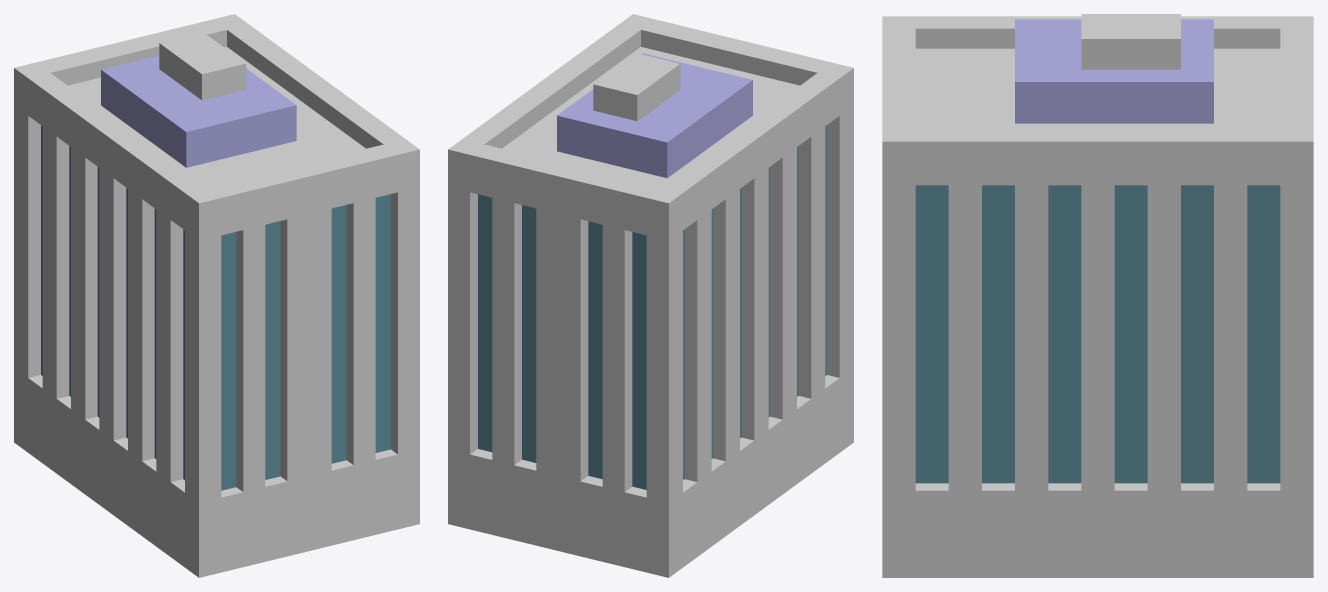
File: MM_house_08_final (1).fbx
3 views of the same model, side by side, from view 1: azimuth 30°, elevation 25°; view 2: azimuth 150°, elevation 25°; view 3: azimuth 270°, elevation 25° (orthographic). The views are drawn at different scales.
Visible parts, largest first — view 1: pCube1; view 2: pCube1; view 3: pCube1.
Boxes of the visible parts, x1,y1,x2,y2 form: pCube1: (14, 14, 419, 577); pCube1: (448, 14, 853, 577); pCube1: (882, 14, 1313, 577).
Bounding box in the file's own units: 15.92 × 28.91 × 23.12.
